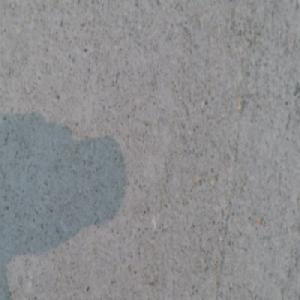Washer: (151, 286, 175, 300)
